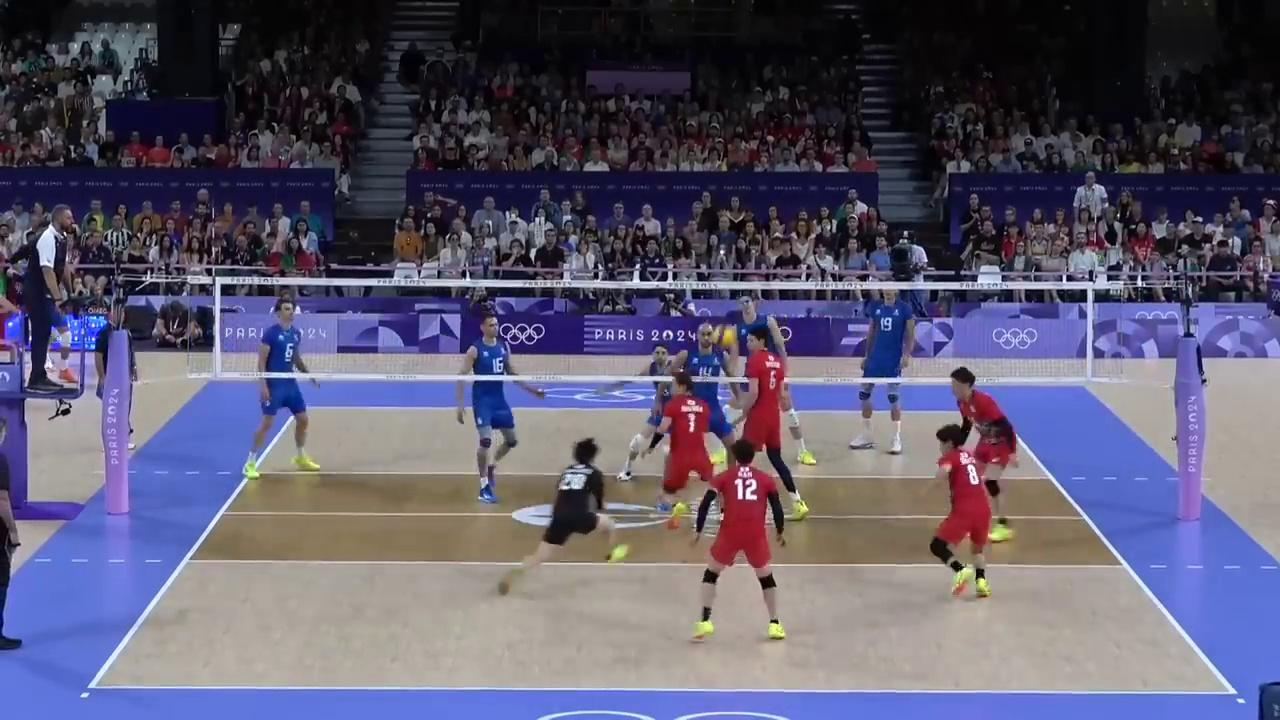ball: (713, 323, 736, 348)
